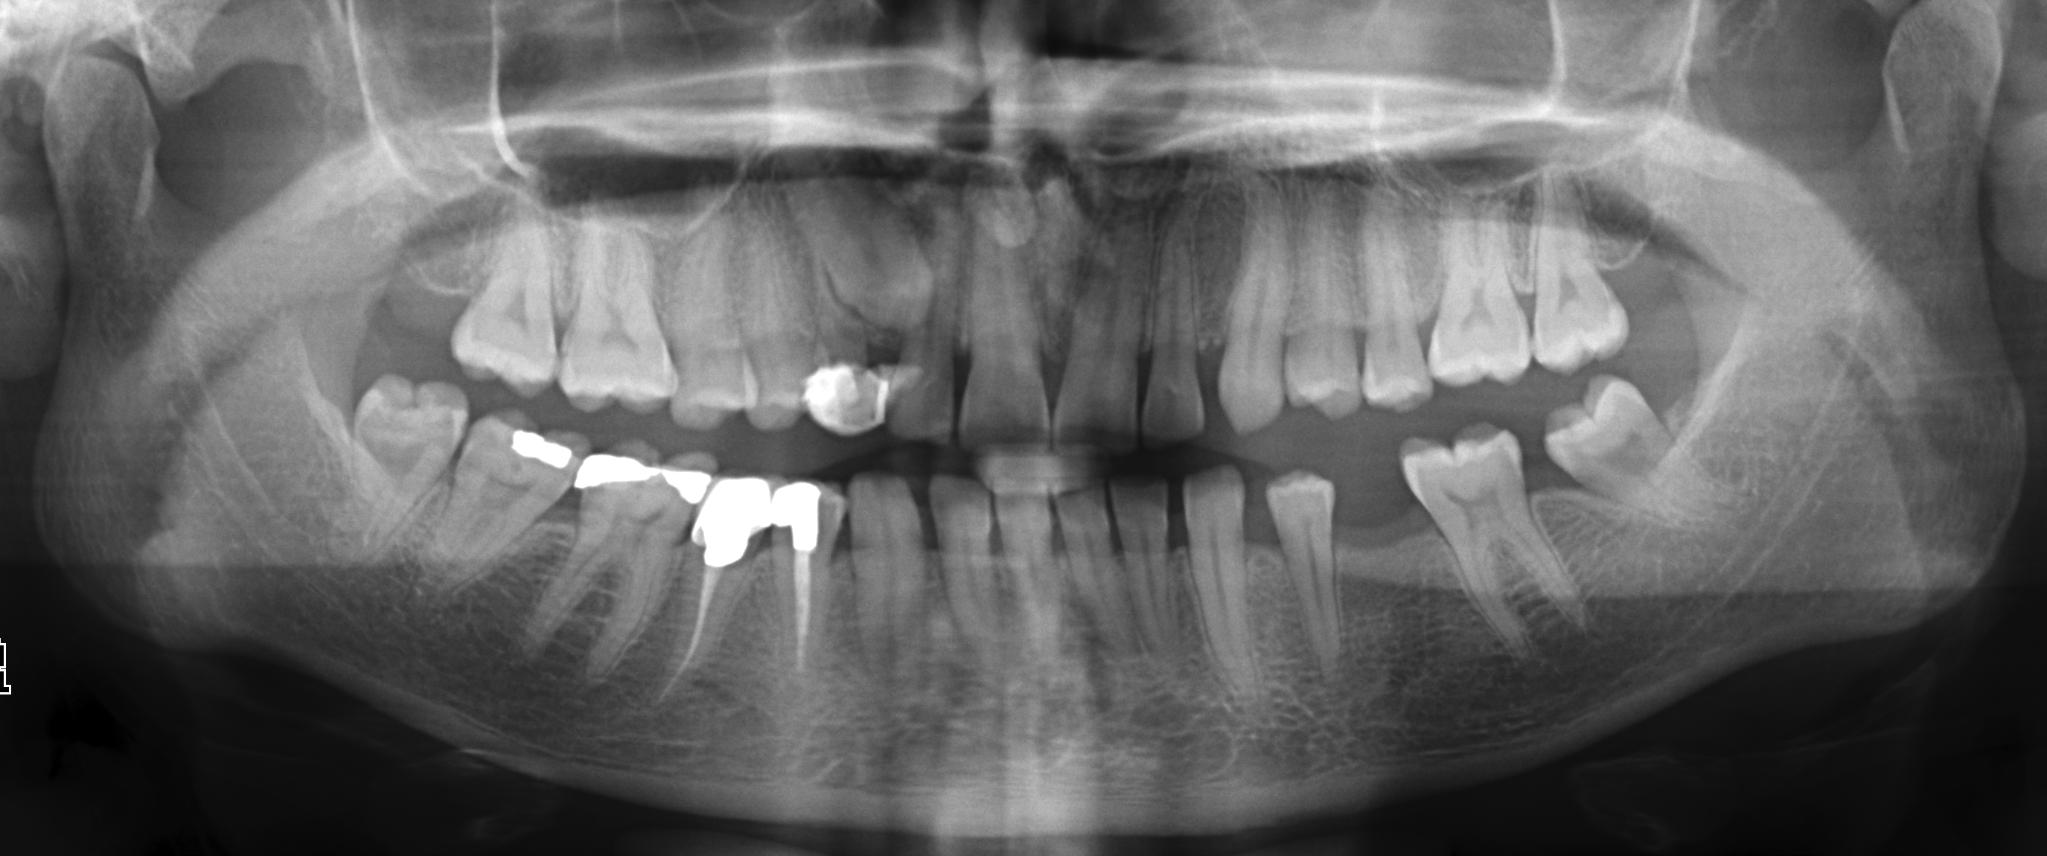Fillings: (543, 442, 701, 681)
Impacted Tooth: (1535, 376, 1727, 540)
Implant: (765, 472, 855, 706)
